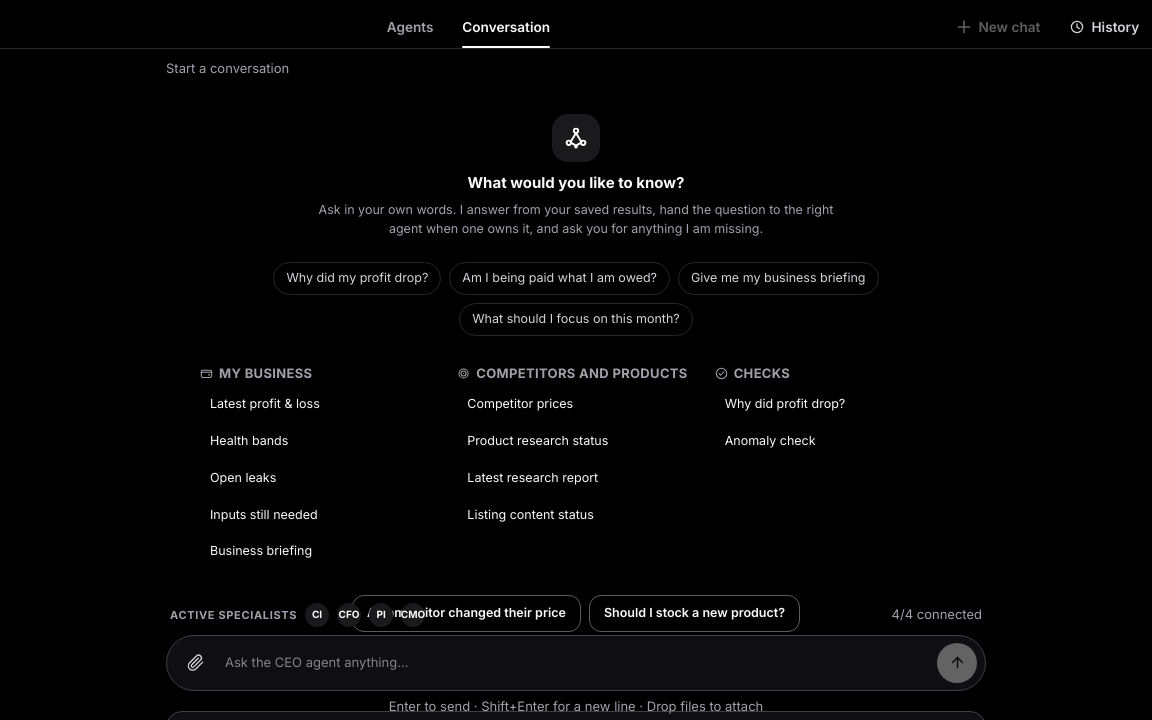
Test case: CEO Hub: a refused approval-required request › labels the answer and the task panel as needing an approved plan, and nothing says it ran or was approved
Click the button with test id "open-drawer" at (1104, 27), box [1056,8,1151,46]
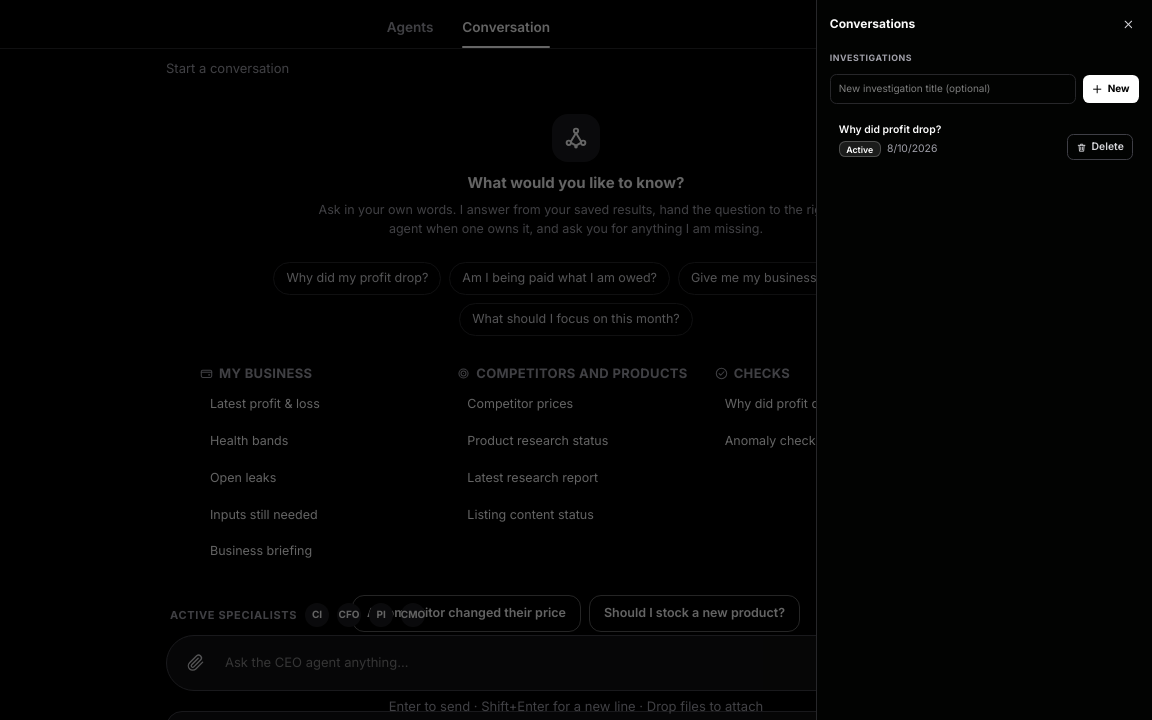
Click the button with test id "investigation-inv-1" at (890, 130), box [830,113,1139,166]
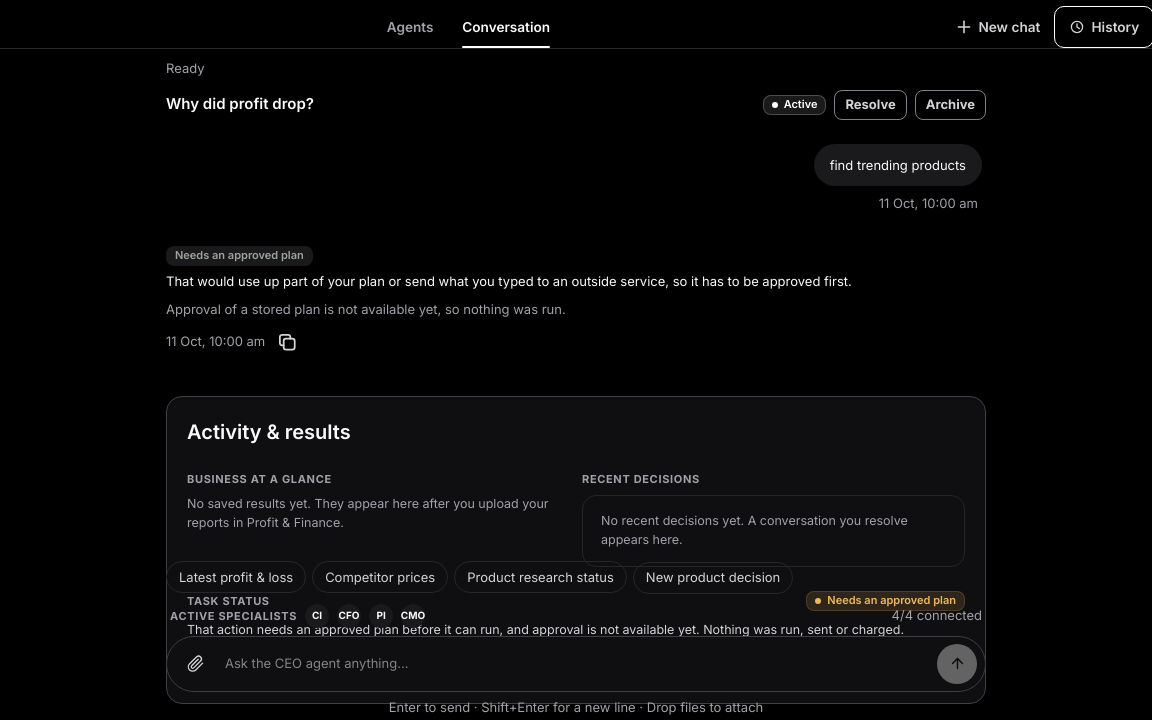
Expected: the text "Needs an approved plan" is shown, [166,246,313,266]
Expected: the text "That would use up part of your plan or send what you typed to an outside service, so it has to be approved first." is shown, [166,273,852,289]
Expected: the text "Needs an approved plan" in the row of "Task status" is shown, [827,593,956,607]
